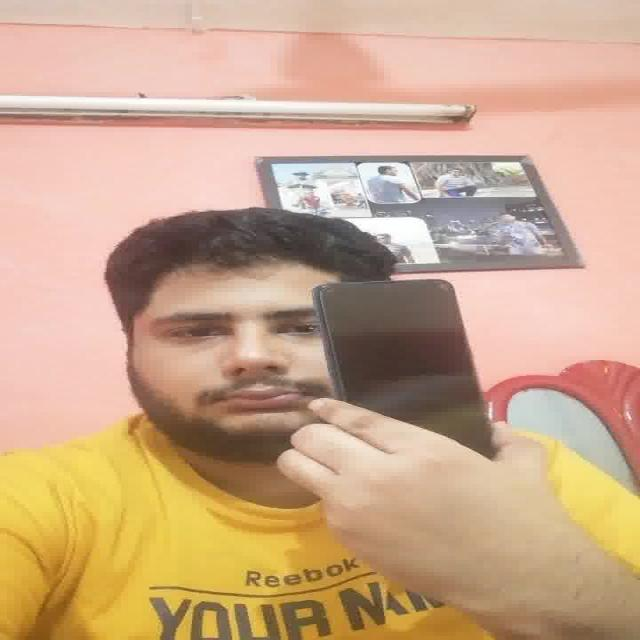Phone: (312, 276, 502, 460)
